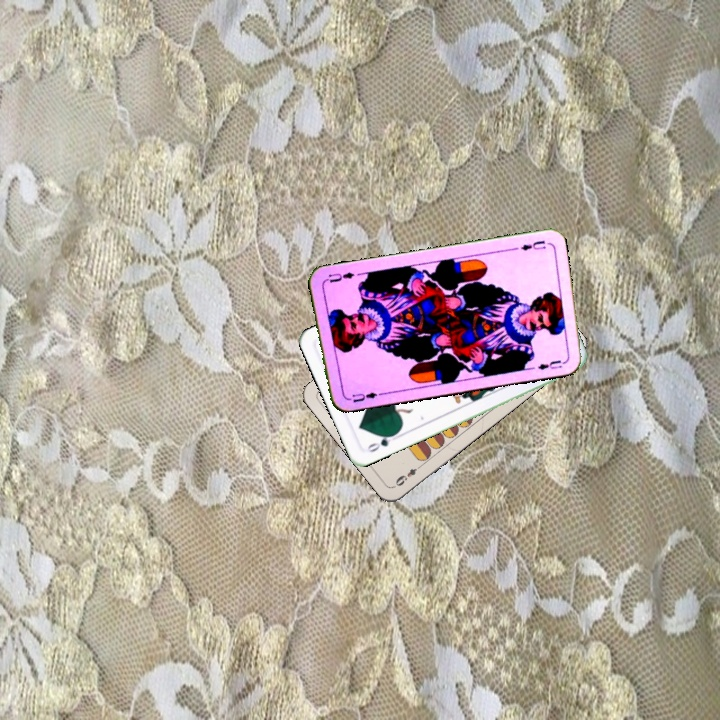E9: (390, 460, 425, 489)
EU: (348, 385, 383, 405), (517, 236, 548, 253)
GO: (362, 429, 399, 455)
